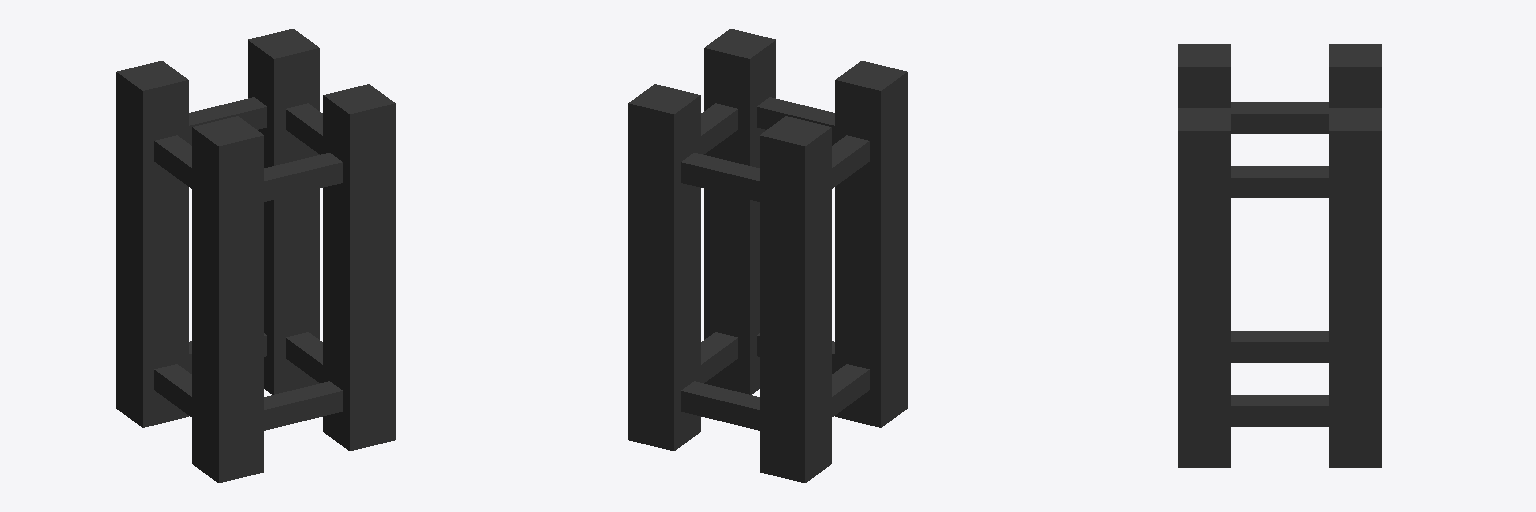
The model's file is monorailSupport_exclusive.obj.
3 renders of one model, left to right at view 1: azimuth 30°, elevation 25°; view 2: azimuth 150°, elevation 25°; view 3: azimuth 270°, elevation 25°, orthographic.
Visible parts, largest first — view 1: monorailSupport_exclusive; view 2: monorailSupport_exclusive; view 3: monorailSupport_exclusive.
Part boxes in pixels (left/top/right/bottom): monorailSupport_exclusive: left=116, top=29, right=395, bottom=482; monorailSupport_exclusive: left=628, top=29, right=907, bottom=482; monorailSupport_exclusive: left=1178, top=44, right=1381, bottom=467.
Size of the model in its own units: 2.06 by 3.75 by 2.06.